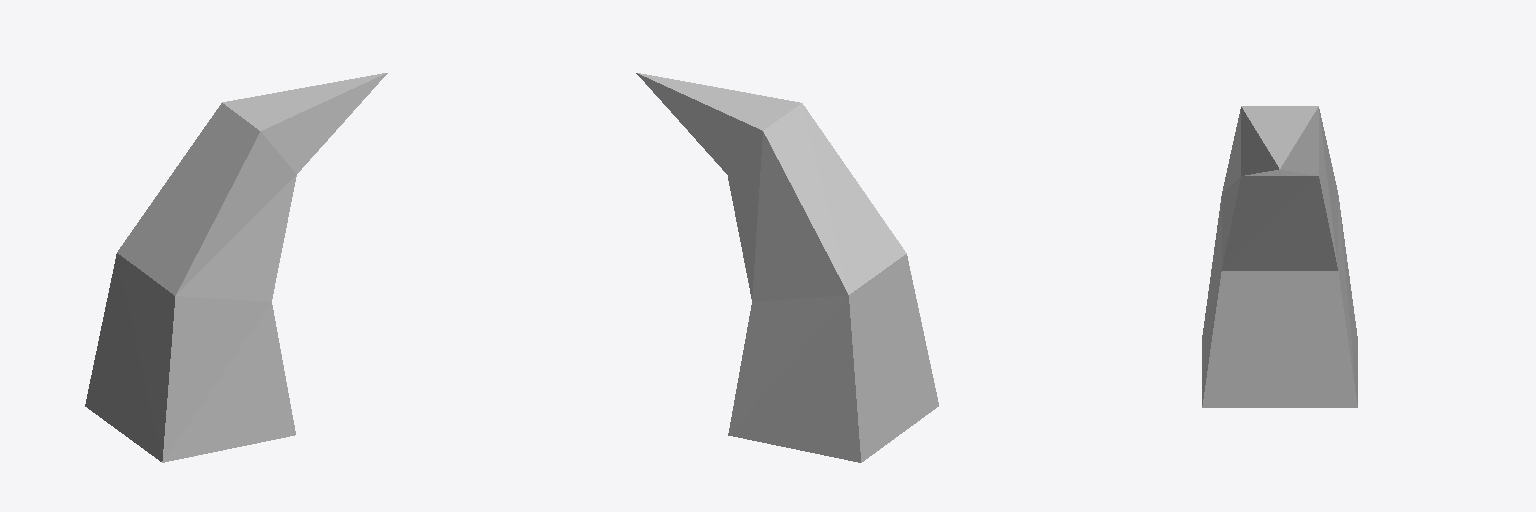
The model's file is skeletal_000034.obj.
The picture shows the model from 3 angles: view 1: azimuth 30°, elevation 25°; view 2: azimuth 150°, elevation 25°; view 3: azimuth 270°, elevation 25°; orthographic projection.
Parts seen in each view (by area): view 1: Cube; view 2: Cube; view 3: Cube.
Boxes of the visible parts, <box> form: Cube: <box>85,73,387,462</box>; Cube: <box>636,73,938,462</box>; Cube: <box>1202,106,1357,407</box>.
Bounding box in the file's own units: 3.94 × 4.29 × 2.